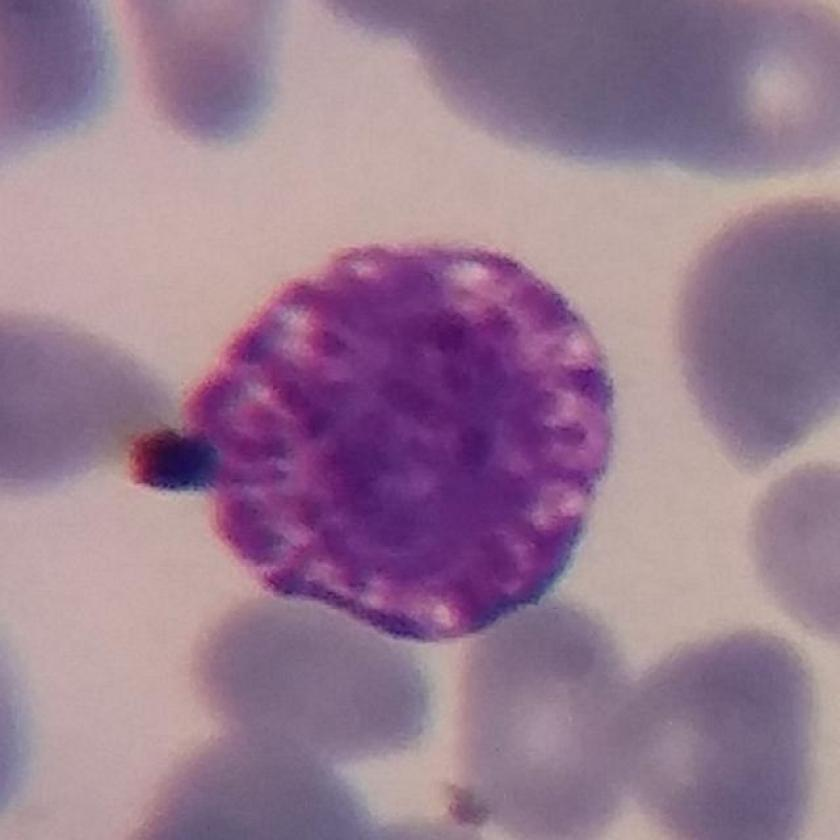basophil: (187, 224, 630, 657)
